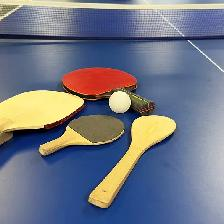WhiteBall: (108, 90, 131, 113)
